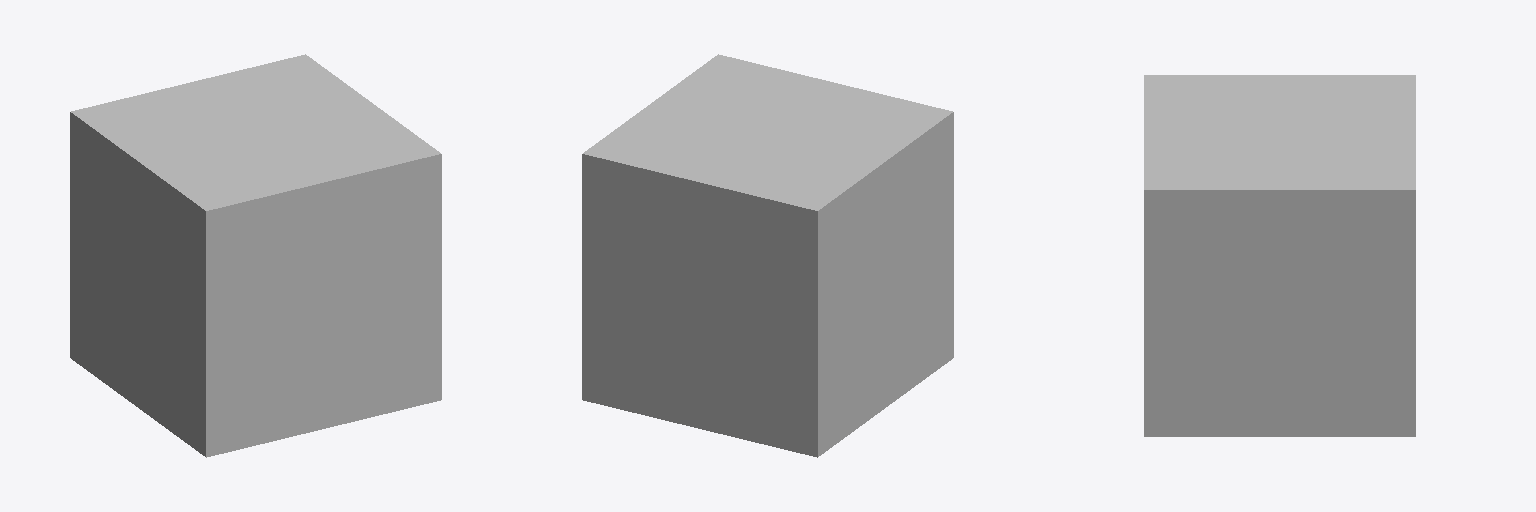
The model's file is cubes_wall4.obj.
3 views of the same model, side by side, from view 1: azimuth 30°, elevation 25°; view 2: azimuth 150°, elevation 25°; view 3: azimuth 270°, elevation 25° (orthographic).
Size of the model in its own units: 0.1 by 0.1 by 0.1.